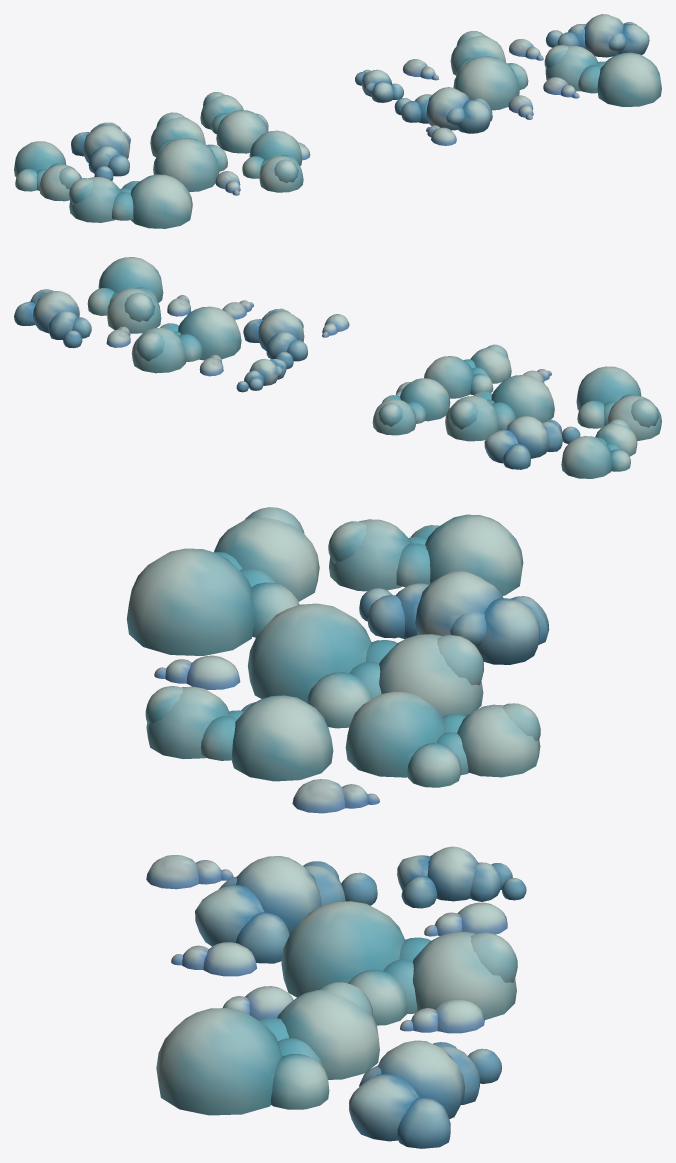
The model's file is Боковые облака.fbx.
3 views of the same model, one above another, from view 1: azimuth 30°, elevation 25°; view 2: azimuth 150°, elevation 25°; view 3: azimuth 270°, elevation 25° (orthographic). The views are drawn at different scales.
Parts seen in each view (by area): view 1: Sphere.014, Sphere.018, Sphere.012, Sphere.003, Sphere.008, Sphere.004, Sphere.019, Sphere.015, Sphere.002, Sphere.013, Sphere.007, Sphere.006 (+5 smaller); view 2: Sphere.003, Sphere.012, Sphere.018, Sphere.014, Sphere.015, Sphere.013, Sphere.004, Sphere.002, Sphere.019, Sphere.008, Sphere.007, Sphere (+4 smaller); view 3: Sphere.018, Sphere.014, Sphere.003, Sphere.012, Sphere.002, Sphere.004, Sphere.015, Sphere.019, Sphere.013, Sphere.008, Sphere.007, Sphere.005 (+6 smaller).
Part boxes in pixels (x1=…): Sphere.014: x1=69, y1=174, x2=192, y2=228; Sphere.018: x1=544, y1=45, x2=661, y2=106; Sphere.012: x1=150, y1=112, x2=227, y2=191; Sphere.003: x1=450, y1=31, x2=528, y2=110; Sphere.008: x1=394, y1=87, x2=492, y2=133; Sphere.004: x1=242, y1=130, x2=303, y2=192; Sphere.019: x1=545, y1=14, x2=649, y2=57; Sphere.015: x1=14, y1=141, x2=82, y2=201; Sphere.002: x1=200, y1=92, x2=268, y2=153; Sphere.013: x1=71, y1=122, x2=130, y2=180; Sphere.007: x1=355, y1=69, x2=403, y2=102; Sphere.006: x1=402, y1=59, x2=438, y2=80; Sphere.003: x1=131, y1=306, x2=241, y2=373; Sphere.012: x1=445, y1=375, x2=554, y2=441; Sphere.018: x1=87, y1=257, x2=163, y2=333; Sphere.014: x1=576, y1=366, x2=661, y2=440; Sphere.015: x1=561, y1=419, x2=637, y2=478; Sphere.013: x1=484, y1=416, x2=580, y2=469; Sphere.004: x1=424, y1=344, x2=511, y2=398; Sphere.002: x1=372, y1=378, x2=450, y2=435; Sphere.019: x1=14, y1=289, x2=91, y2=348; Sphere.008: x1=243, y1=308, x2=307, y2=369; Sphere.007: x1=236, y1=359, x2=286, y2=392; Sphere: x1=322, y1=314, x2=349, y2=337; Sphere.018: x1=156, y1=982, x2=379, y2=1115; Sphere.014: x1=127, y1=507, x2=319, y2=655; Sphere.003: x1=281, y1=901, x2=517, y2=1025; Sphere.012: x1=248, y1=603, x2=483, y2=728; Sphere.002: x1=345, y1=691, x2=540, y2=787; Sphere.004: x1=145, y1=686, x2=333, y2=781; Sphere.015: x1=328, y1=514, x2=523, y2=595; Sphere.019: x1=349, y1=1040, x2=501, y2=1148; Sphere.013: x1=359, y1=571, x2=549, y2=664; Sphere.008: x1=195, y1=856, x2=377, y2=963; Sphere.007: x1=397, y1=846, x2=526, y2=908; Sphere.005: x1=292, y1=779, x2=379, y2=813.
Bounding box in the file's own units: 1510 × 99.61 × 449.
